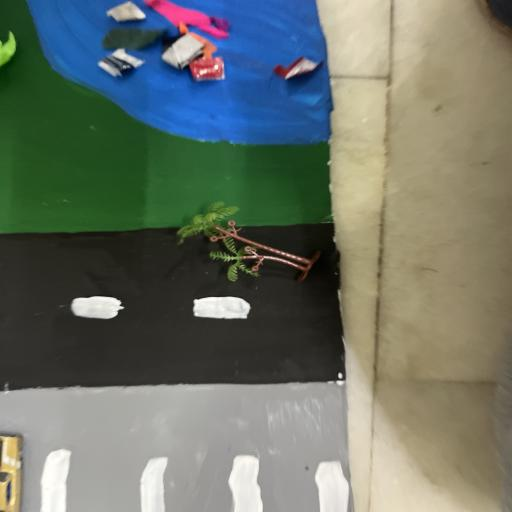fallen trees: (174, 200, 322, 288)
trash: (95, 1, 326, 87)
